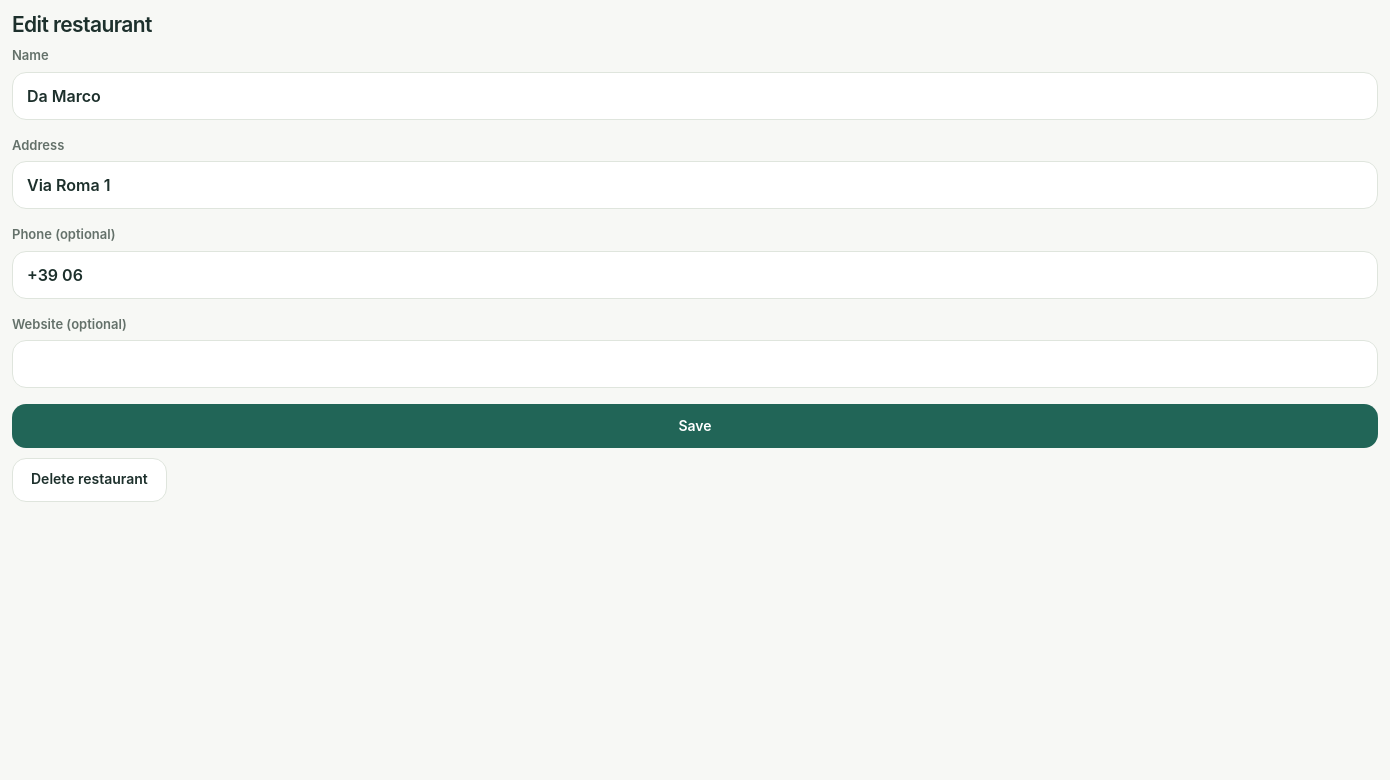
Test case: RestaurantFormPage — edit › saves with the base version it was seeded from, and reports a conflict with Reload draft
Clear the field with test id "field-phone" at (695, 275), box [12,251,1378,299]
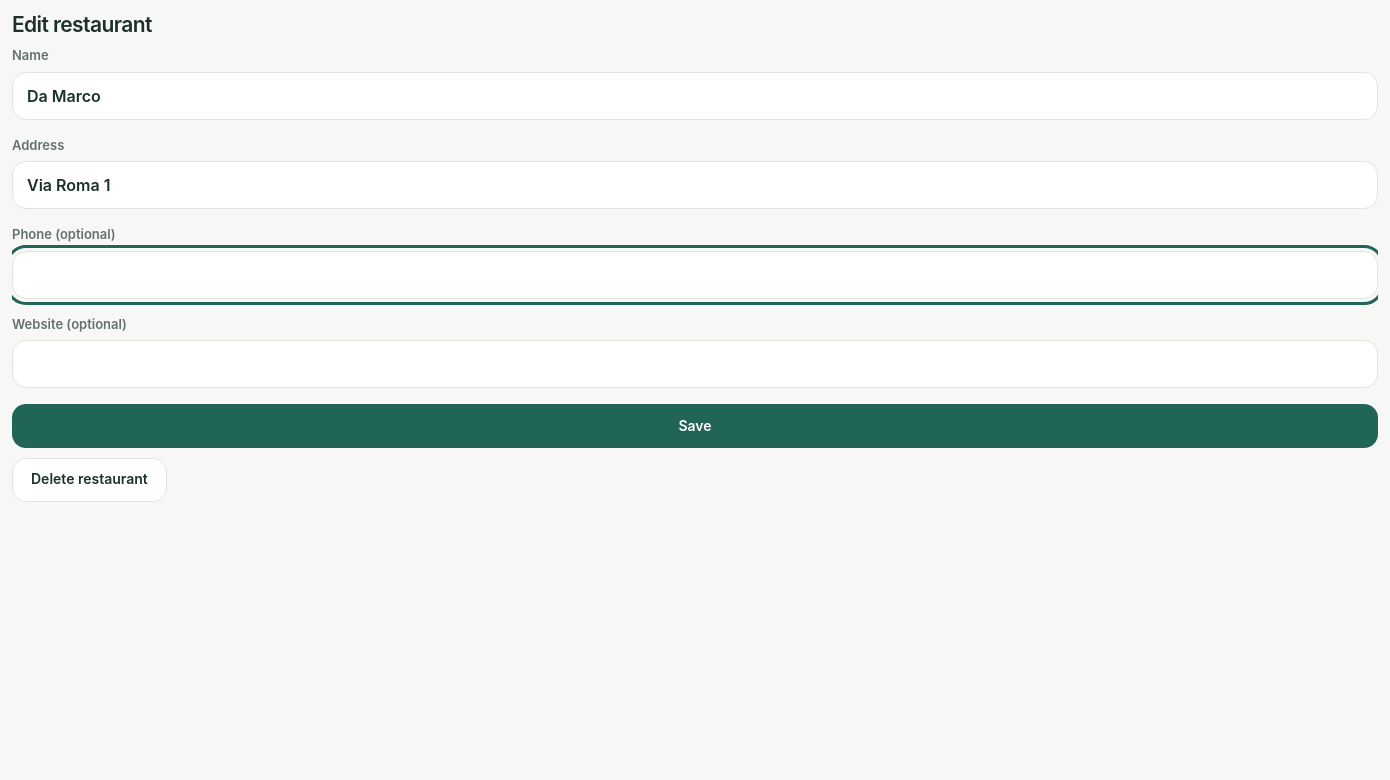
Click the button with test id "save-restaurant".
click(695, 426)  # box [12,404,1378,448]
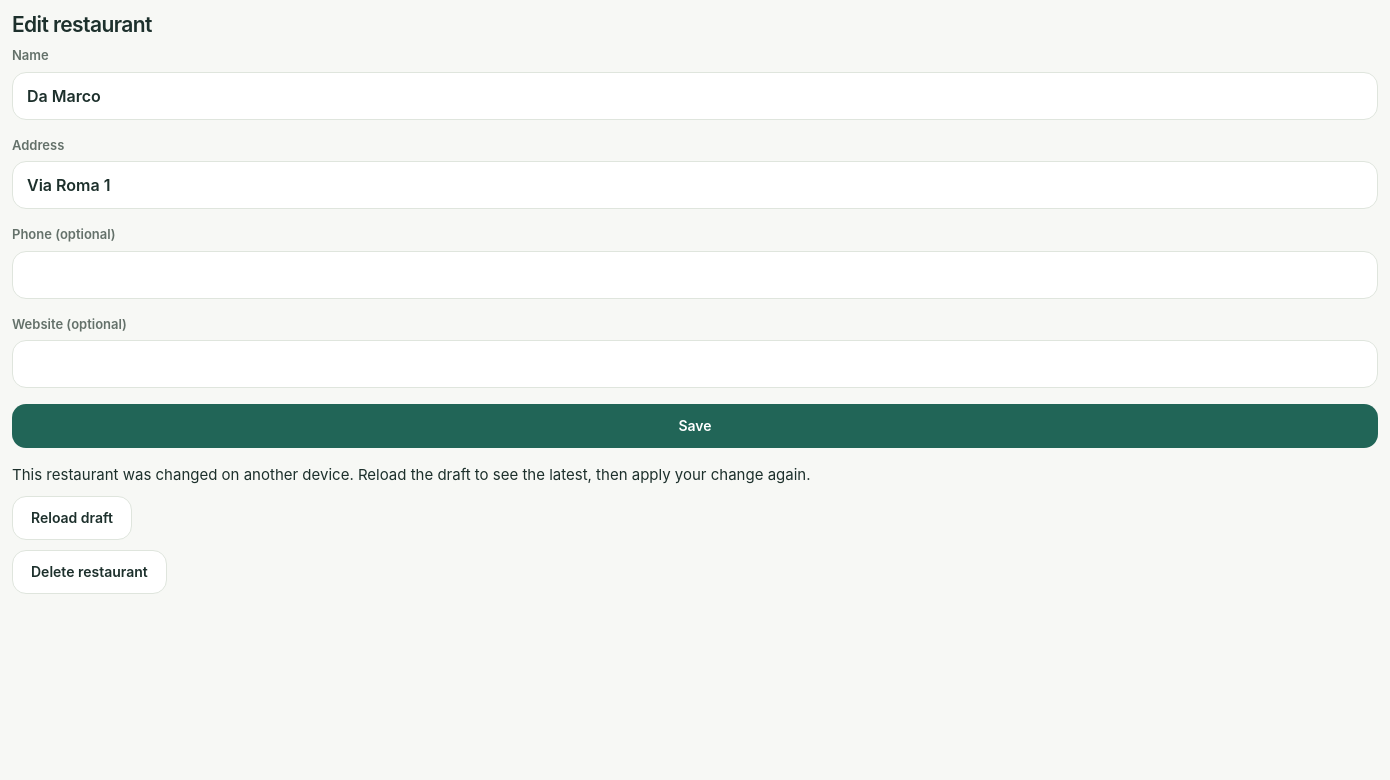
Expected: the button with test id "reload-draft" is shown, [12,496,132,540]
